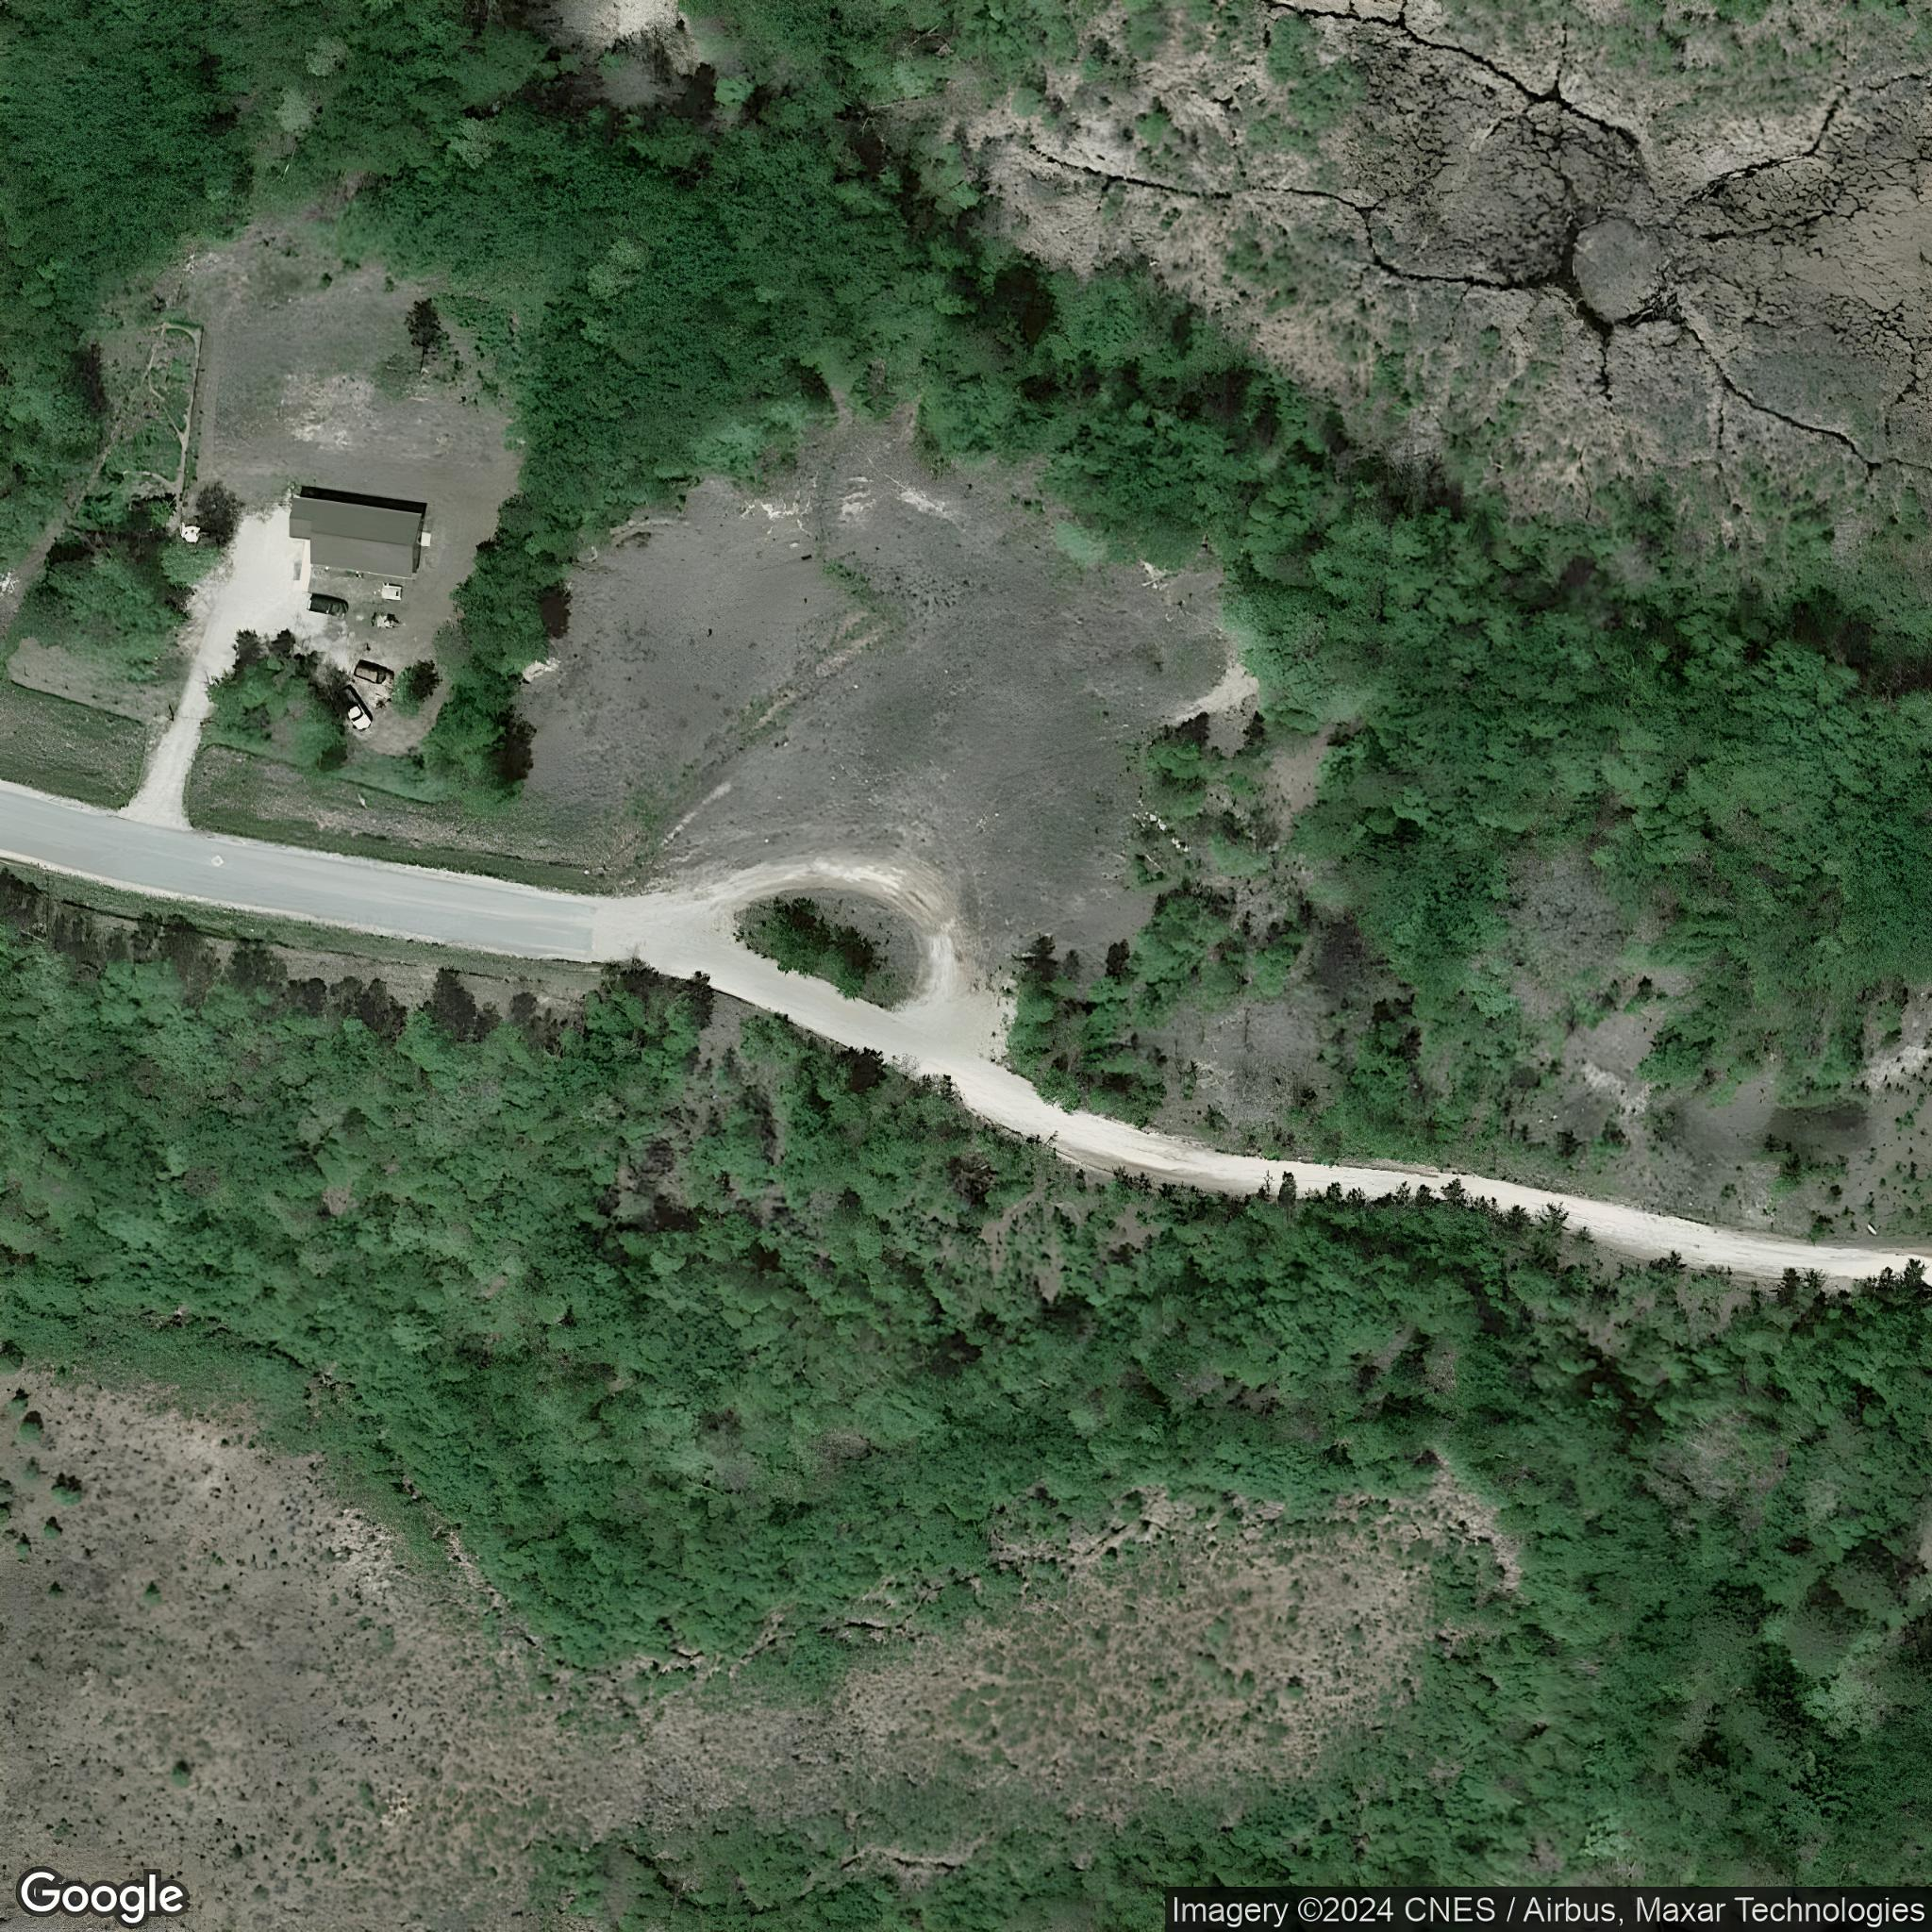House: (287, 497, 426, 582)
